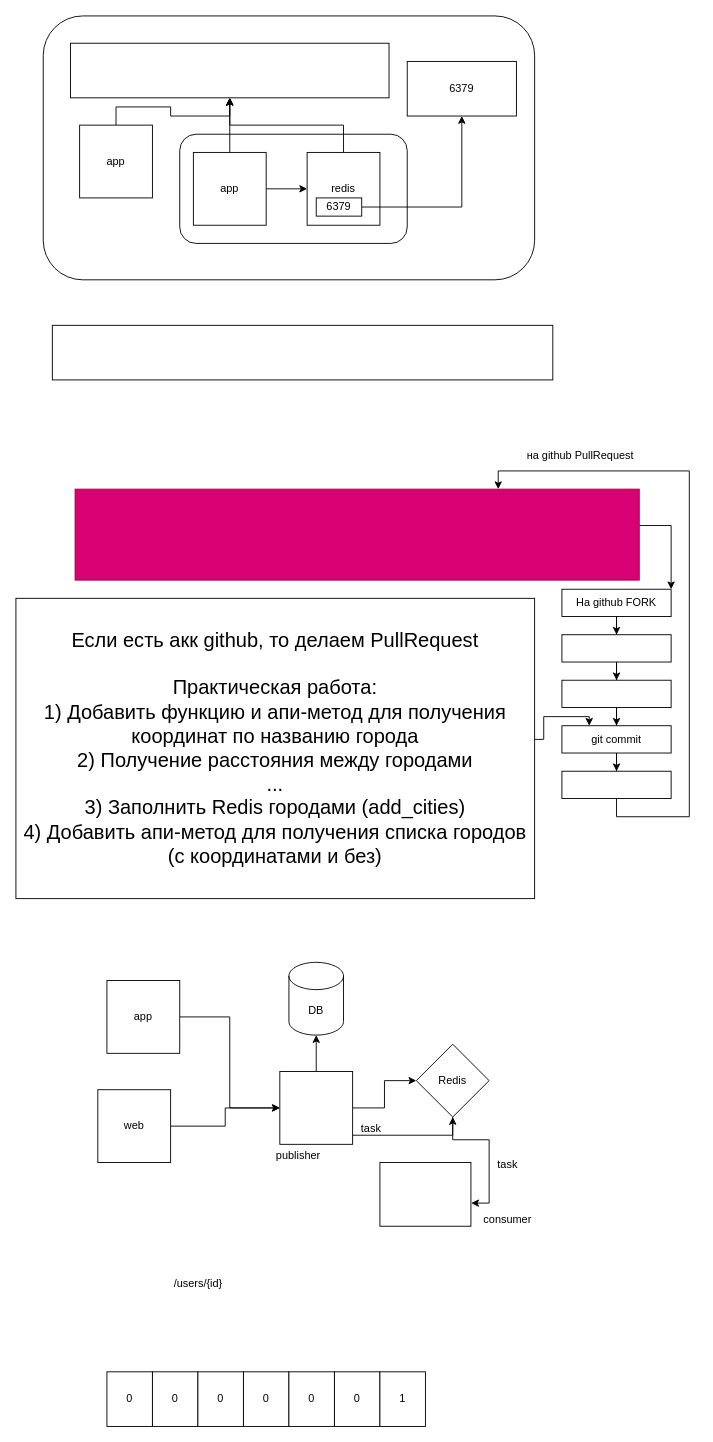
This 713x1442 diagram has some shape labels left out. Here are the shapes that lost their labels. From the top down, the centre of each, then its label:
At [229,70]: "Ядро Linux".
At [302,352]: "github.com/gulyaeve/python_redis".
At [356,534]: "https://github.com/gulyaeve/fastapi_geo".
At [616,648]: "clone".
At [616,693]: "git checkout -b ...".
At [616,784]: "git push".
At [316,1107]: "FastAPI".
At [425,1194]: "worker".
